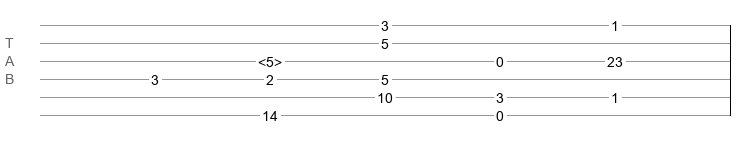0: (496, 54, 504, 64), (496, 108, 504, 118)
1: (611, 18, 619, 28), (611, 90, 619, 100)
10: (377, 90, 393, 100)
14: (262, 108, 278, 118)
2: (266, 72, 274, 82)
23: (607, 54, 623, 64)
3: (151, 72, 159, 82), (381, 18, 389, 28), (496, 90, 504, 100)
5: (381, 36, 389, 46), (381, 72, 389, 82)
harmonic: (258, 54, 282, 64)
